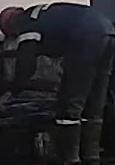helmet: (0, 7, 24, 36)
vest: (26, 4, 108, 59)
